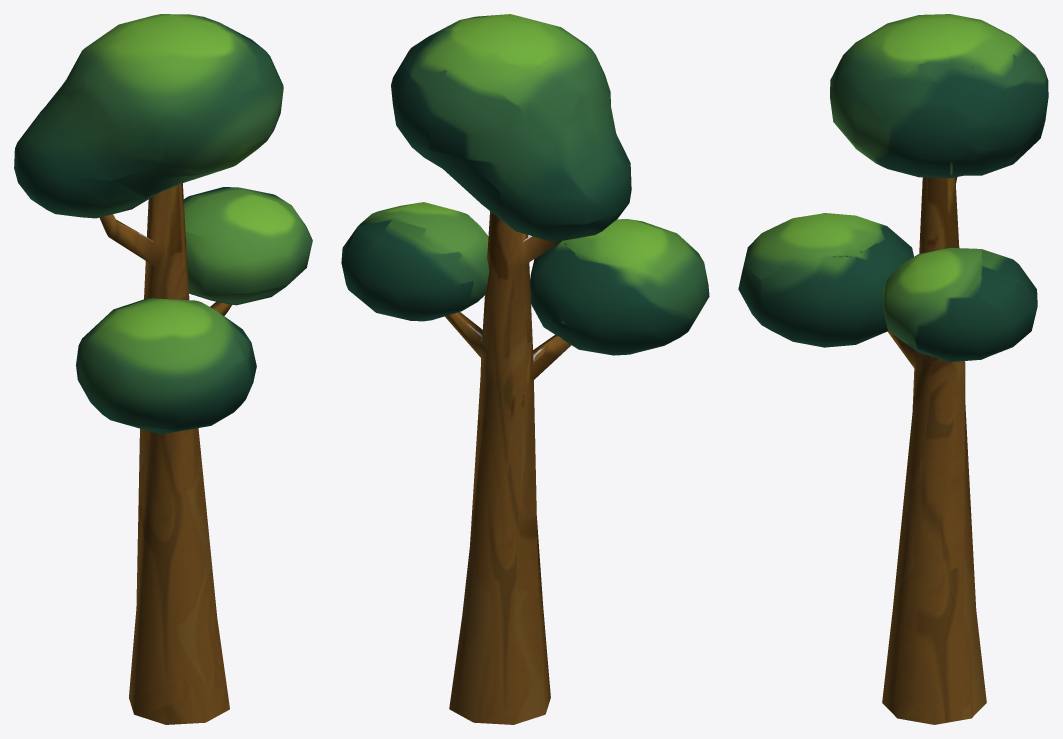
File: tree4.fbx
The picture shows the model from 3 angles, left to right: view 1: azimuth 30°, elevation 25°; view 2: azimuth 150°, elevation 25°; view 3: azimuth 270°, elevation 25°; orthographic projection.
Visible parts, largest first — view 1: tree.004; view 2: tree.004; view 3: tree.004.
Part boxes in pixels (x1,y1,x2,y2): tree.004: [14, 14, 312, 724]; tree.004: [341, 14, 709, 724]; tree.004: [738, 14, 1048, 724].
Bounding box in the file's own units: 819 × 1888 × 789.
